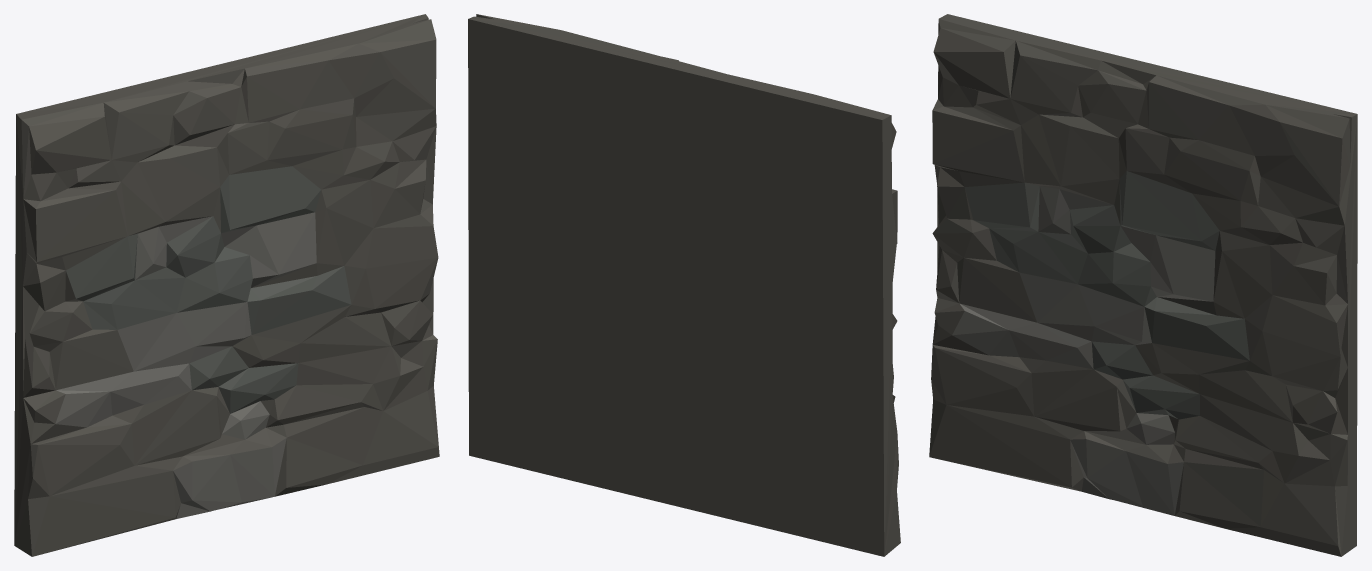
File: MDungeons_Walls_Base.FBX
The picture shows the model from 3 angles, left to right: view 1: azimuth 30°, elevation 25°; view 2: azimuth 150°, elevation 25°; view 3: azimuth 330°, elevation 25°; orthographic projection.
Parts seen in each view (by area): view 1: MDungeon_Walls_Base_LOD0; view 2: MDungeon_Walls_Base_LOD0; view 3: MDungeon_Walls_Base_LOD0.
Boxes of the visible parts, left/top/right/bottom form: MDungeon_Walls_Base_LOD0: left=14, top=14, right=439, bottom=556; MDungeon_Walls_Base_LOD0: left=468, top=14, right=900, bottom=556; MDungeon_Walls_Base_LOD0: left=929, top=14, right=1357, bottom=556.
Size of what is drawn, in the model's own units: 6.01 by 6.02 by 0.4979.
